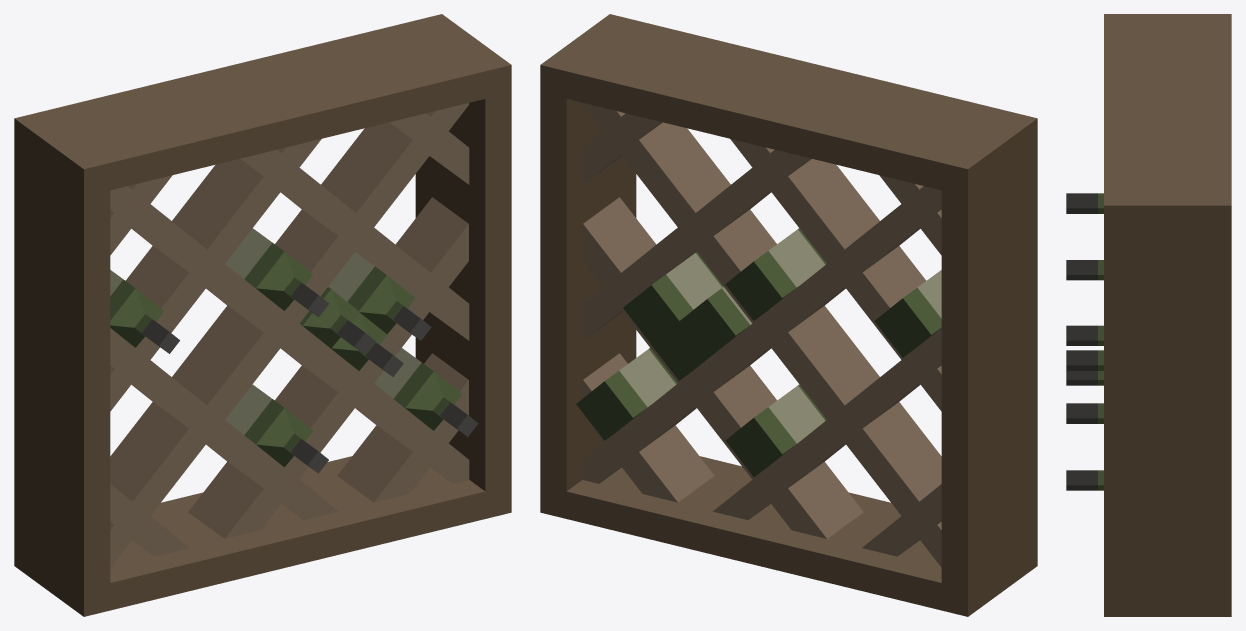
The model's file is SD_Prop_Winerack_01.fbx.
3 views of the same model, side by side, from view 1: azimuth 30°, elevation 25°; view 2: azimuth 150°, elevation 25°; view 3: azimuth 270°, elevation 25° (orthographic). The views are drawn at different scales.
Visible parts, largest first — view 1: SD_Prop_Winerack_01; view 2: SD_Prop_Winerack_01; view 3: SD_Prop_Winerack_01.
Boxes of the visible parts, x1=… form: SD_Prop_Winerack_01: x1=14, y1=14, x2=511, y2=616; SD_Prop_Winerack_01: x1=540, y1=14, x2=1037, y2=616; SD_Prop_Winerack_01: x1=1066, y1=14, x2=1231, y2=616.
Size of the model in its own units: 3.66 by 3.66 by 1.34.
